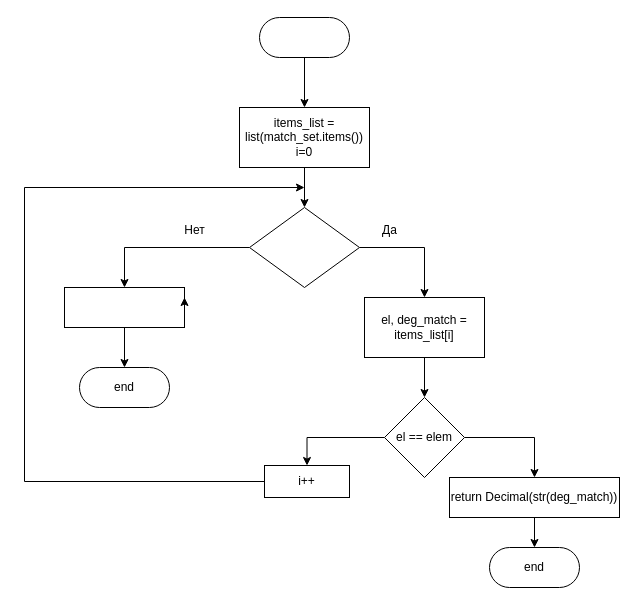
Image size: 637x605. Some labels were removed from this diagram. The shapes that lost their labels are listed below. From the top down, each one's centre as x and y in pixels, then its label:
At (x=304, y=37): "begin".
At (x=304, y=247): "i<len(items_list)".
At (x=124, y=307): "return Decimal(0)".
